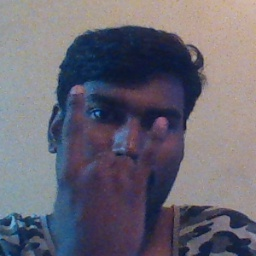V: (48, 83, 171, 254)
